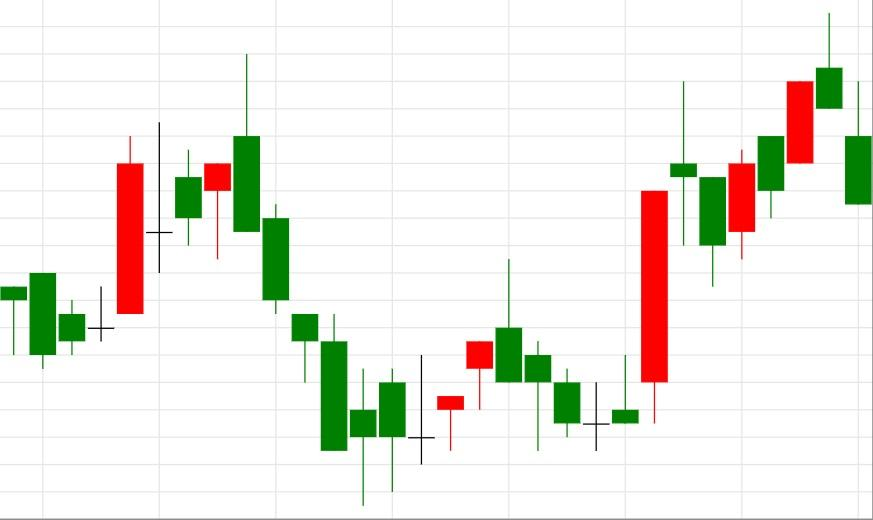hanging_man_fall: (28, 122, 232, 368)
